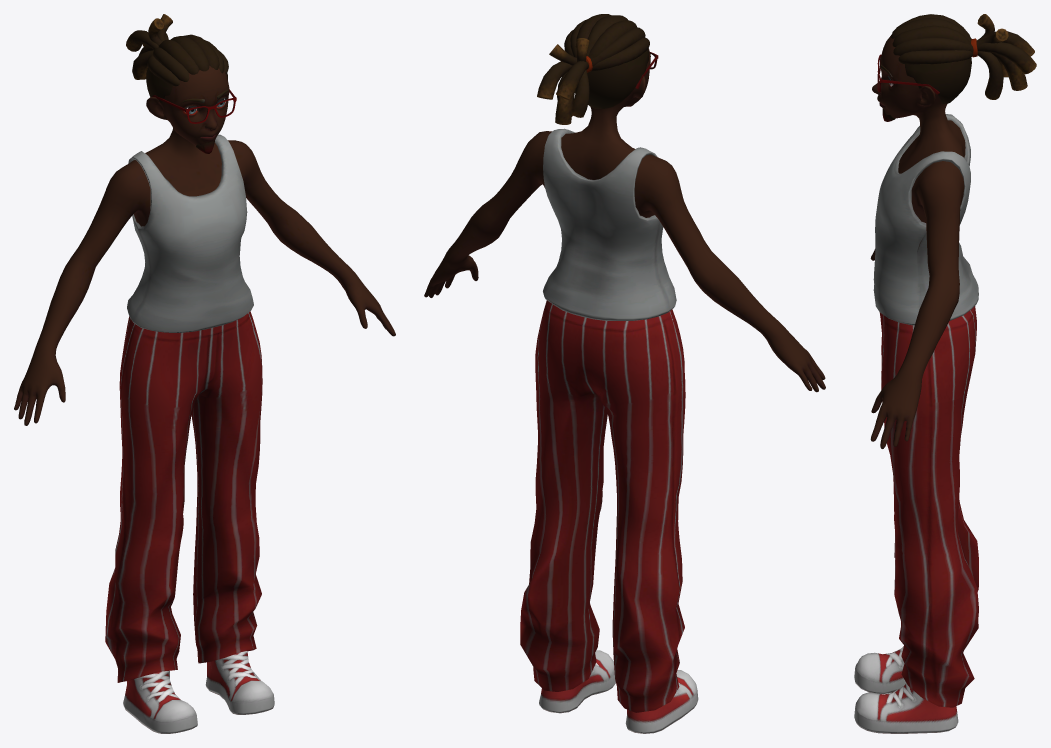
The model's file is Buster_Mesh.obj.
3 views of the same model, side by side, from view 1: azimuth 30°, elevation 25°; view 2: azimuth 150°, elevation 25°; view 3: azimuth 270°, elevation 25° (orthographic). The views are drawn at different scales.
Parts seen in each view (by area): view 1: Buster_Mesh_0; view 2: Buster_Mesh_0; view 3: Buster_Mesh_0.
Part boxes in pixels (x1,y1,x2,y2): Buster_Mesh_0: (14,14,395,733); Buster_Mesh_0: (424,14,825,733); Buster_Mesh_0: (854,14,1036,733).
Size of the model in its own units: 1.06 by 1.8 by 0.4334.
1 material, 1 textured.
